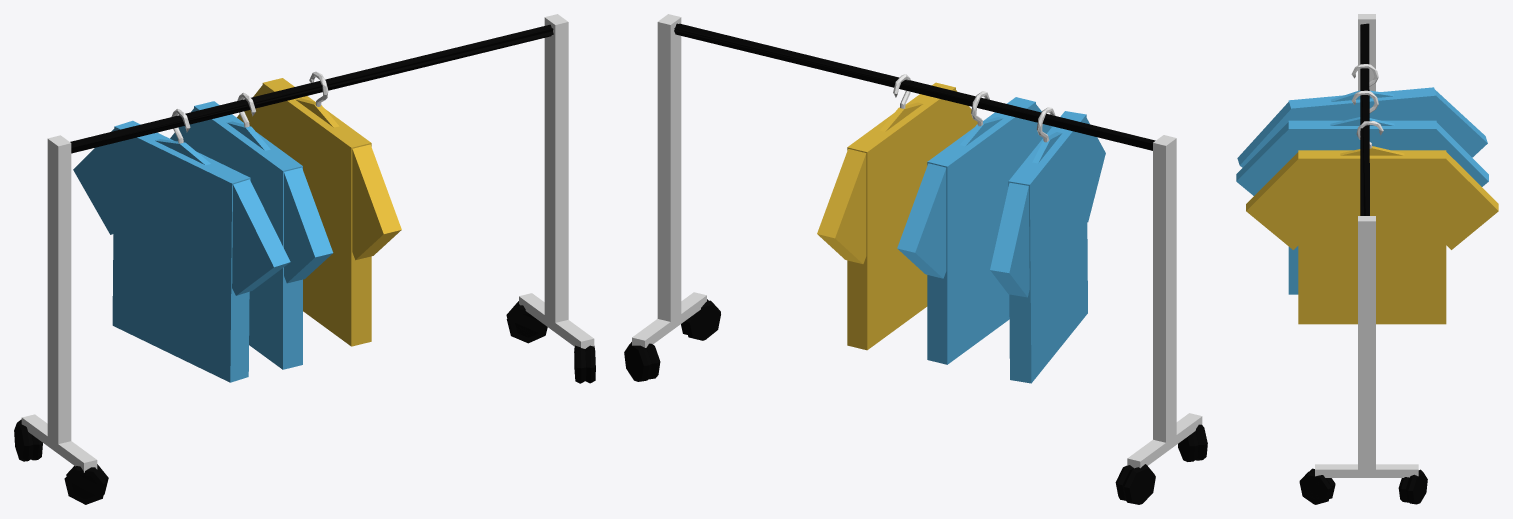
Rendered from rack_6.fbx.
3 renders of one model, left to right at view 1: azimuth 30°, elevation 25°; view 2: azimuth 150°, elevation 25°; view 3: azimuth 270°, elevation 25°, orthographic. The views are drawn at different scales.
Visible parts, largest first — view 1: Plane.003, Plane.001, Plane.006, Stand.R, Stand.L, Bar, Roll.R_1, Roll.L_2, Roll.R_2, Roll.L_1; view 2: Plane.006, Plane.001, Plane.003, Stand.L, Stand.R, Bar, Roll.R_2, Roll.L_2, Roll.L_1, Roll.R_1; view 3: Plane.001, Plane.006, Plane.003, Stand.L, Bar, Roll.L_1, Stand.R, Roll.L_2.
Boxes of the visible parts, x1,y1,x2,y2 form: Plane.003: (73,120,290,382); Plane.001: (237,78,401,346); Plane.006: (170,101,333,369); Stand.R: (21,135,97,472); Stand.L: (519,14,594,348); Bar: (70,24,553,153); Roll.R_1: (64,464,108,504); Roll.L_2: (506,301,547,343); Roll.R_2: (14,419,42,461); Roll.L_1: (574,345,595,383); Plane.006: (897,97,1052,364); Plane.001: (817,82,977,350); Plane.003: (990,111,1105,383); Stand.L: (632,14,706,347); Stand.R: (1127,135,1202,468); Bar: (674,23,1155,150); Roll.R_2: (1115,464,1155,504); Roll.L_2: (624,342,660,381); Roll.L_1: (681,299,720,340); Roll.R_1: (1178,424,1207,461); Plane.001: (1246,146,1498,324); Plane.006: (1236,117,1488,294); Plane.003: (1237,87,1487,167); Stand.L: (1315,216,1418,477); Bar: (1360,23,1369,215); Roll.L_1: (1299,468,1335,504); Stand.R: (1358,14,1375,91); Roll.L_2: (1398,469,1427,504).
Size of the model in its own units: 561 by 346 by 287.
